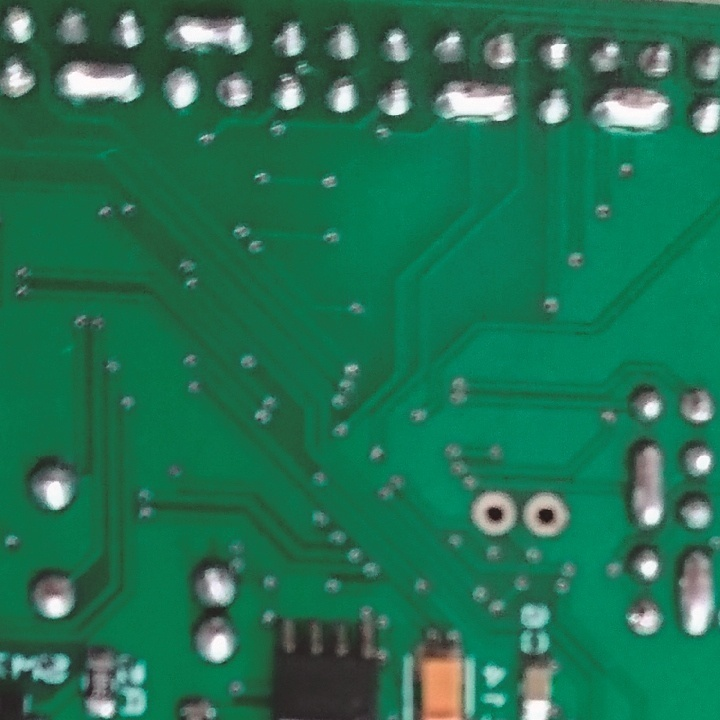F: (465, 487, 521, 540), (518, 487, 570, 538), (1, 51, 39, 103), (678, 383, 716, 432), (211, 69, 254, 112), (481, 30, 523, 74), (622, 598, 665, 640), (636, 39, 675, 82)
P: (54, 60, 149, 111), (430, 78, 518, 129), (591, 85, 673, 136), (161, 15, 256, 58), (678, 549, 716, 638), (632, 440, 667, 531)
